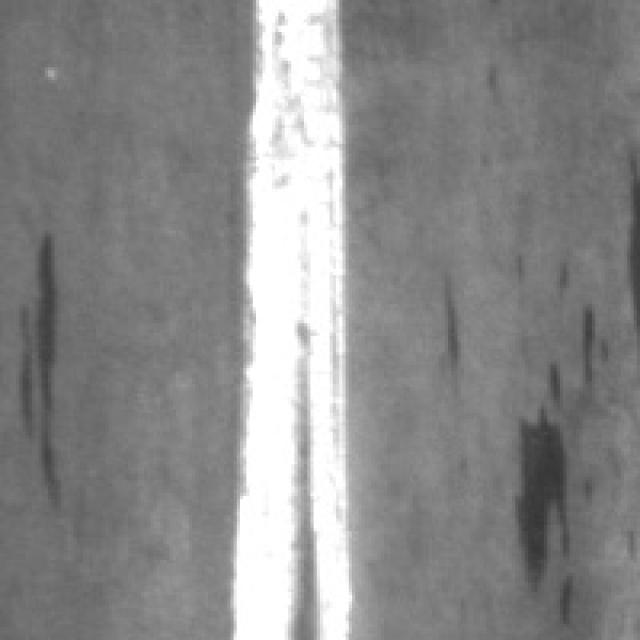inclusion: (518, 355, 582, 602), (20, 224, 70, 496), (432, 262, 477, 381)
scratches: (233, 0, 364, 634)
